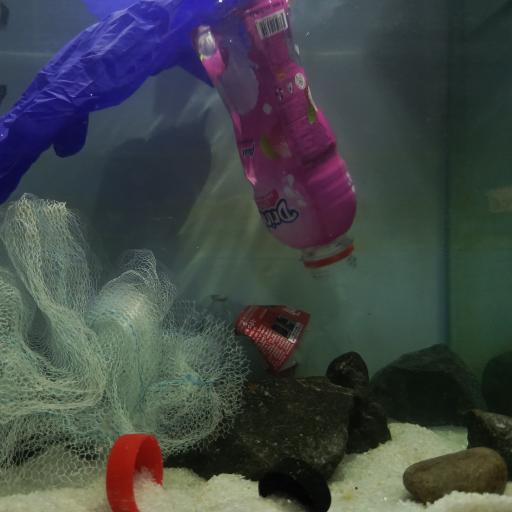bottle_cap: (106, 432, 164, 512), (257, 455, 330, 512)
glove: (1, 0, 236, 204)
net: (1, 192, 246, 486)
plastic_bottle: (193, 0, 360, 280), (198, 292, 342, 374)
